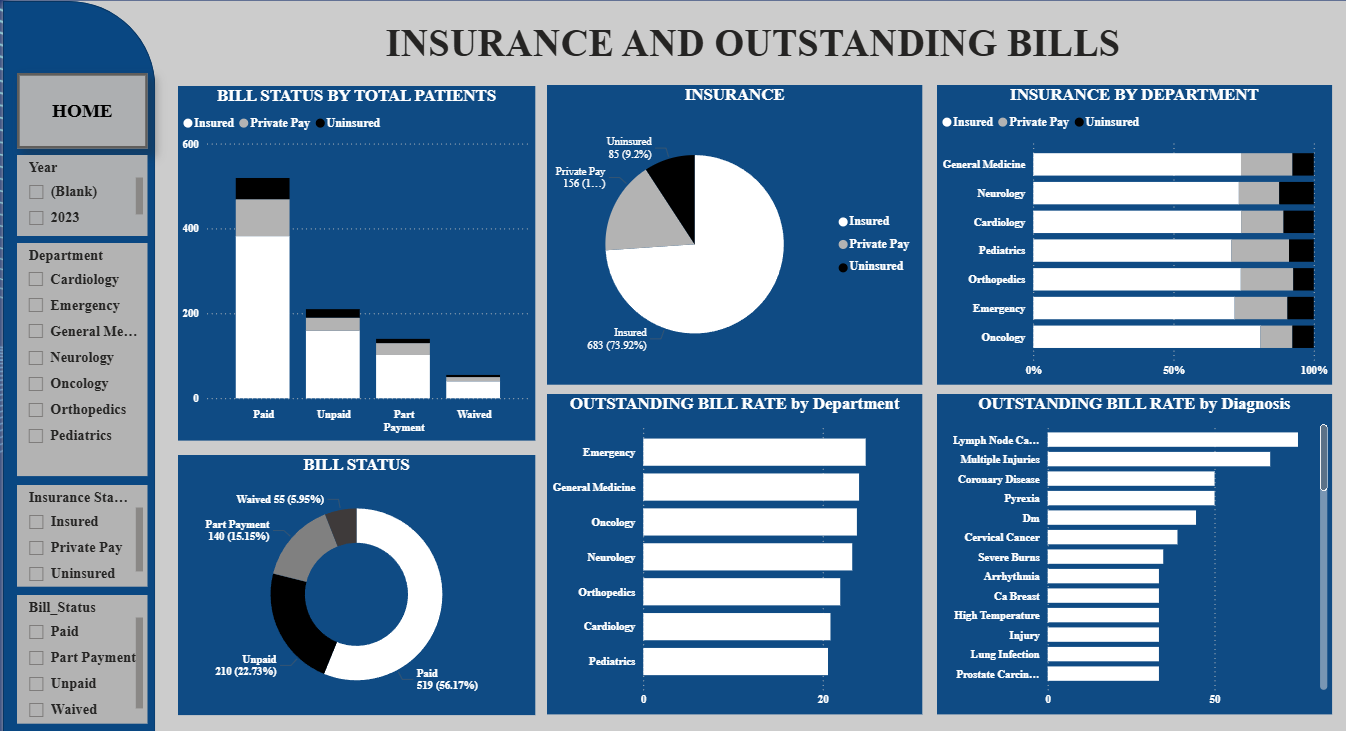

Layout of this report page (visuals, bound fields, positions):
{"tool":"powerbi","page":{"name":"Insurance & Outstanding Bills","canvas":[1500,820],"ordinal":3},"visuals":[{"type":"shape","box":[0,0,169.2,820.5],"z":0},{"type":"textbox","box":[383.3,16.7,900,62.8],"z":1000},{"type":"hundredPercentStackedBarChart","title":"INSURANCE BY DEPARTMENT","fields":{"Category":["main sheet.Department"],"Series":["main sheet.Insurance Status"],"Y":["main sheet.TOTAL PATIENT"]},"box":[1037.5,93.2,438.6,333],"z":2000},{"type":"pieChart","title":"INSURANCE","fields":{"Category":["main sheet.Insurance Status"],"Y":["CountNonNull(main sheet.Insurance)"]},"box":[604.5,93.2,417,333],"z":3000},{"type":"columnChart","title":"BILL STATUS BY TOTAL PATIENTS","fields":{"Category":["main sheet.Bill_Status"],"Series":["main sheet.Insurance Status"],"Y":["main sheet.TOTAL PATIENT"]},"box":[194.3,94.3,396.6,394.3],"z":9000},{"type":"barChart","fields":{"Category":["main sheet.Department"],"Y":["main sheet.OUTSTANDING BILL RATE"]},"box":[604.5,436.4,417,355.7],"z":10000},{"type":"barChart","fields":{"Category":["main sheet.Diagnosis"],"Y":["main sheet.OUTSTANDING BILL RATE"]},"box":[1037.5,436.4,438.6,355.7],"z":11000},{"type":"donutChart","title":"BILL STATUS","fields":{"Category":["main sheet.Bill_Status"],"Y":["CountNonNull(main sheet.Bill_Status)"]},"box":[194.3,504.5,396.6,288.6],"z":12000},{"type":"slicer","fields":{"Values":["main sheet.Department"]},"box":[15.9,269.3,145.5,259.1],"z":13000},{"type":"slicer","fields":{"Values":["main sheet.Insurance Status"]},"box":[15.9,537.5,145.5,112.5],"z":14000},{"type":"slicer","fields":{"Values":["main sheet.Bill_Status"]},"box":[15.9,660.2,145.5,143.2],"z":15000},{"type":"actionButton","title":"HOME ","box":[15.9,79.5,145.5,84.1],"z":16000},{"type":"slicer","fields":{"Values":["dim date.Year"]},"box":[15.9,171.6,145.5,89.8],"z":17000}]}

Visuals, with their boxes in screenshot pixels (x1, y1, x2, y2), scaled from the page's 1500x820 canvas onto the 1346x731 screenshot:
shape: <bbox>0, 0, 152, 730</bbox>
textbox: <bbox>344, 15, 1152, 71</bbox>
"INSURANCE BY DEPARTMENT" hundredPercentStackedBarChart: <bbox>931, 83, 1325, 380</bbox>
"INSURANCE" pieChart: <bbox>542, 83, 917, 380</bbox>
"BILL STATUS BY TOTAL PATIENTS" columnChart: <bbox>174, 84, 530, 436</bbox>
barChart - main sheet.Department x main sheet.OUTSTANDING BILL RATE: <bbox>542, 389, 917, 706</bbox>
barChart - main sheet.Diagnosis x main sheet.OUTSTANDING BILL RATE: <bbox>931, 389, 1325, 706</bbox>
"BILL STATUS" donutChart: <bbox>174, 450, 530, 707</bbox>
slicer - main sheet.Department: <bbox>14, 240, 145, 471</bbox>
slicer - main sheet.Insurance Status: <bbox>14, 479, 145, 579</bbox>
slicer - main sheet.Bill_Status: <bbox>14, 589, 145, 716</bbox>
"HOME " actionButton: <bbox>14, 71, 145, 146</bbox>
slicer - dim date.Year: <bbox>14, 153, 145, 233</bbox>
